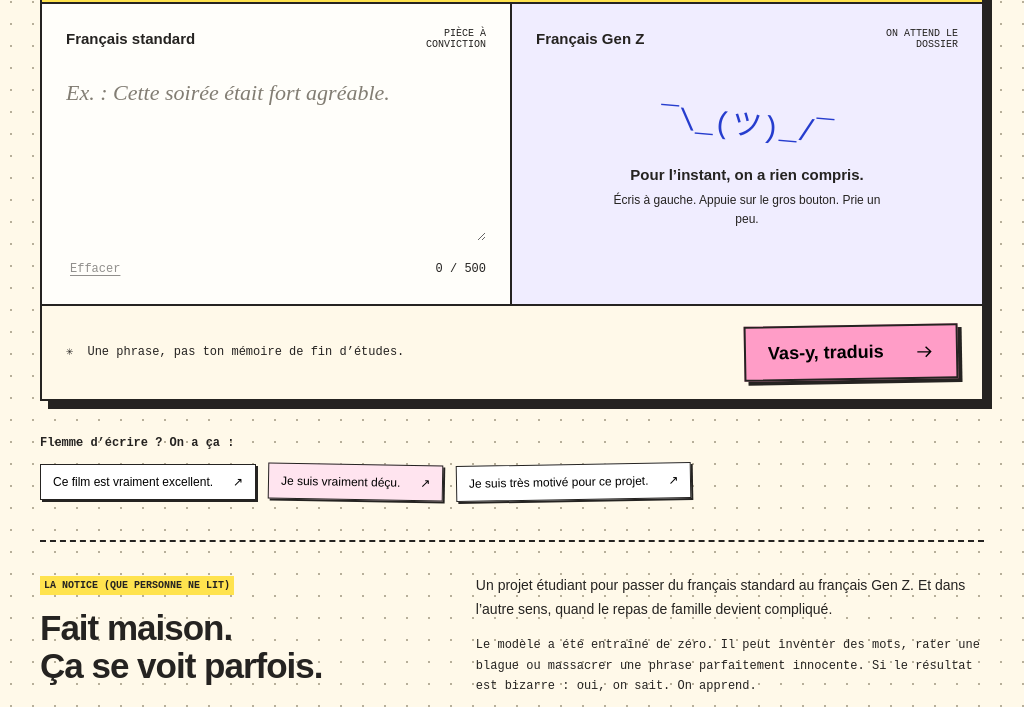
it: valide le texte vide puis traduit et inverse avec le résultat
The image size is (1024, 707).
(page scrolled)
Click the button "Vas-y, traduis". click: (851, 352)
box: top-left (744, 323), bottom-right (958, 382)
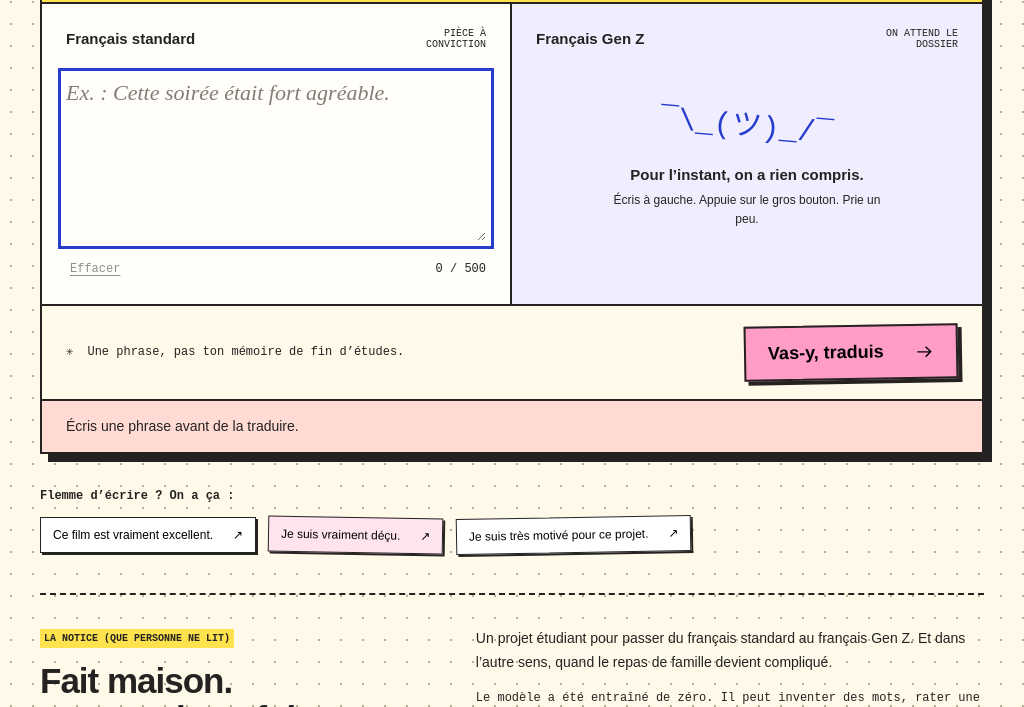
Expected: the text "Écris une phrase avant de la traduire." is shown, top-left (42, 399), bottom-right (982, 452)
Type "Bonjour" into the text box labelled "Français standard". click: (276, 158)
box: top-left (66, 76), bottom-right (486, 241)
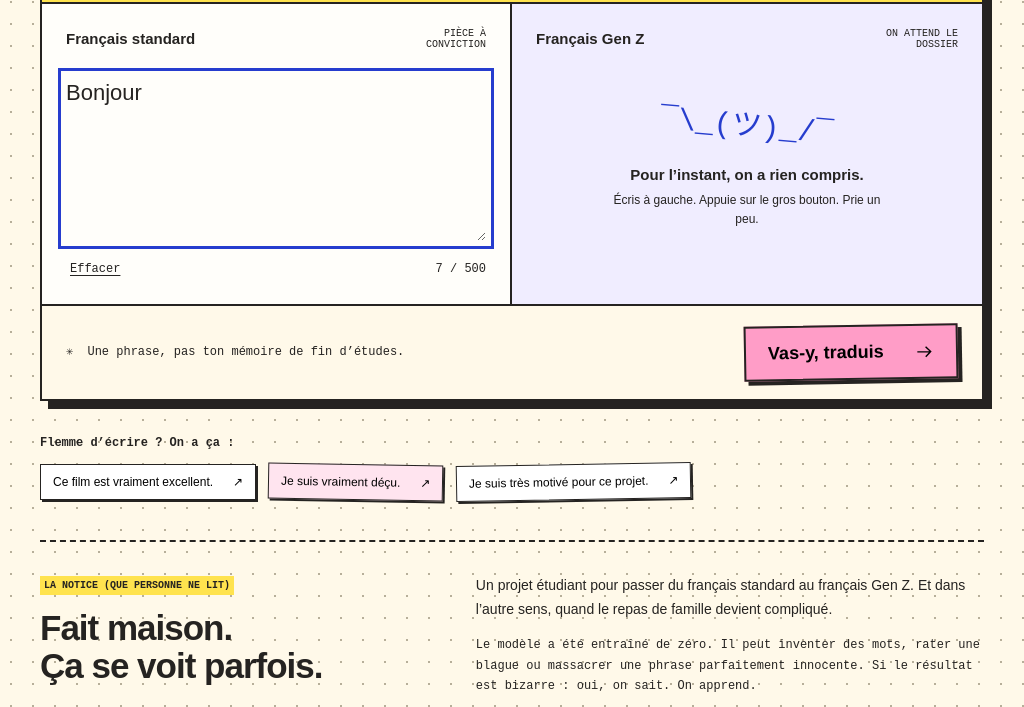
Click the button "Vas-y, traduis". click: (851, 352)
box: top-left (744, 323), bottom-right (958, 382)
(page scrolled)
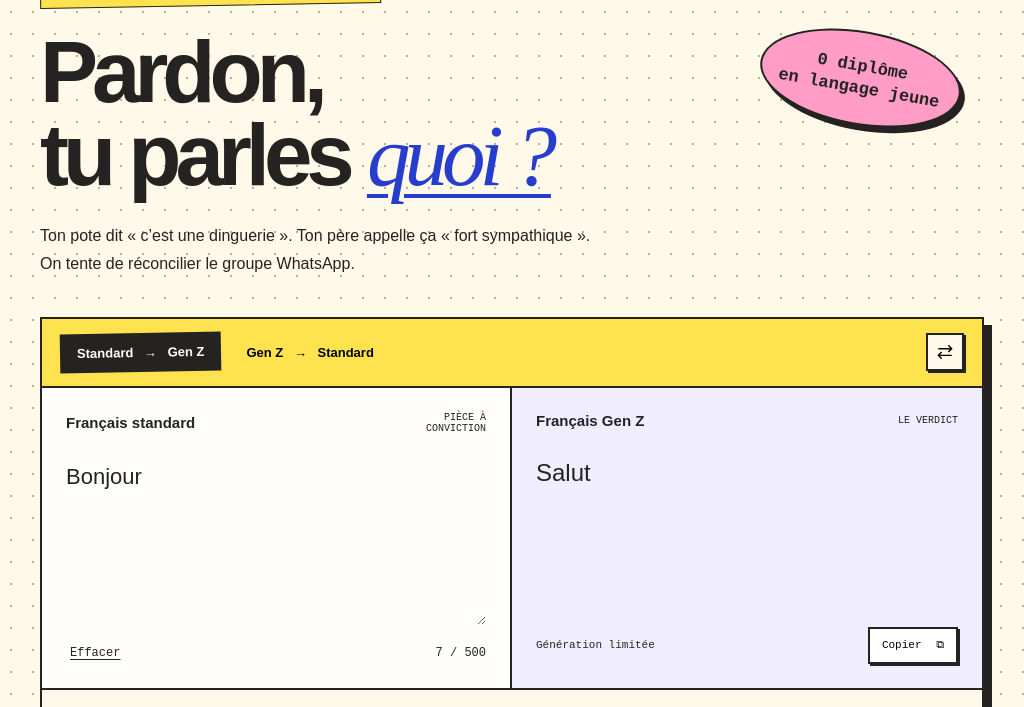
Expected: the text "Salut" is shown, top-left (536, 459), bottom-right (591, 486)
Click the button named "Inverser le sens de traduction". click: (945, 352)
box: top-left (926, 333), bottom-right (964, 371)
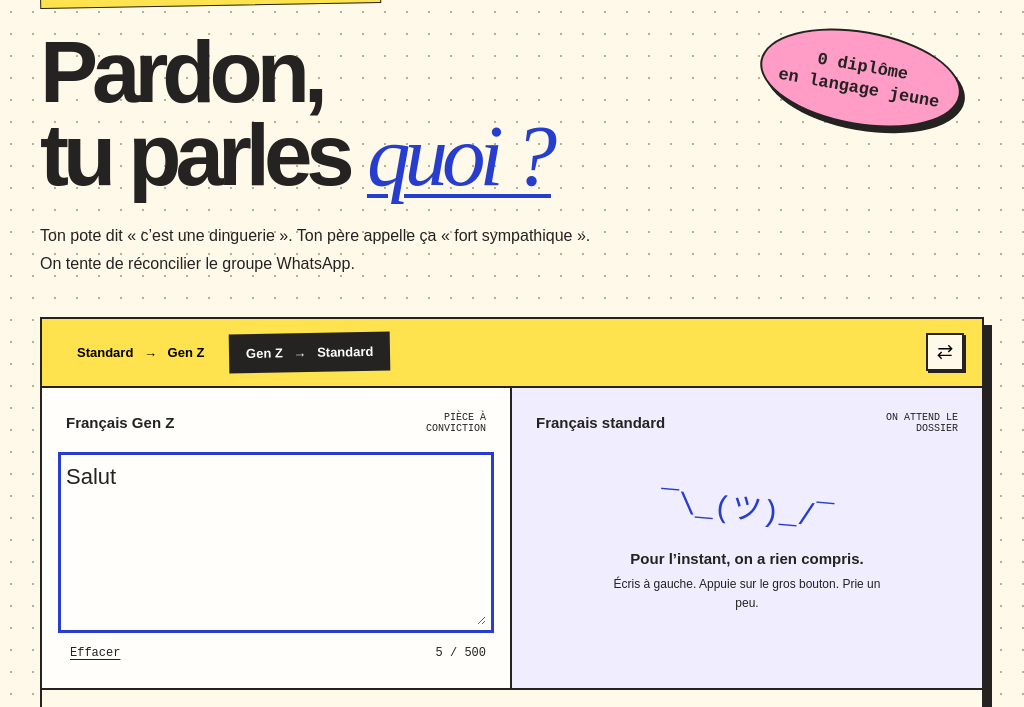
Expected: the text box labelled "Français Gen Z" holds "Salut", top-left (66, 460), bottom-right (486, 625)
Expected: the button "Copier" is gone
